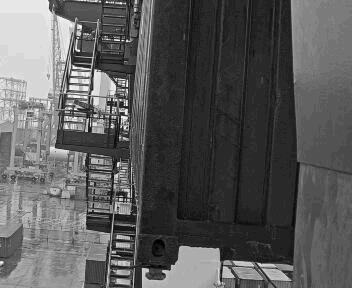twist_lock_1: (148, 172, 199, 209)
